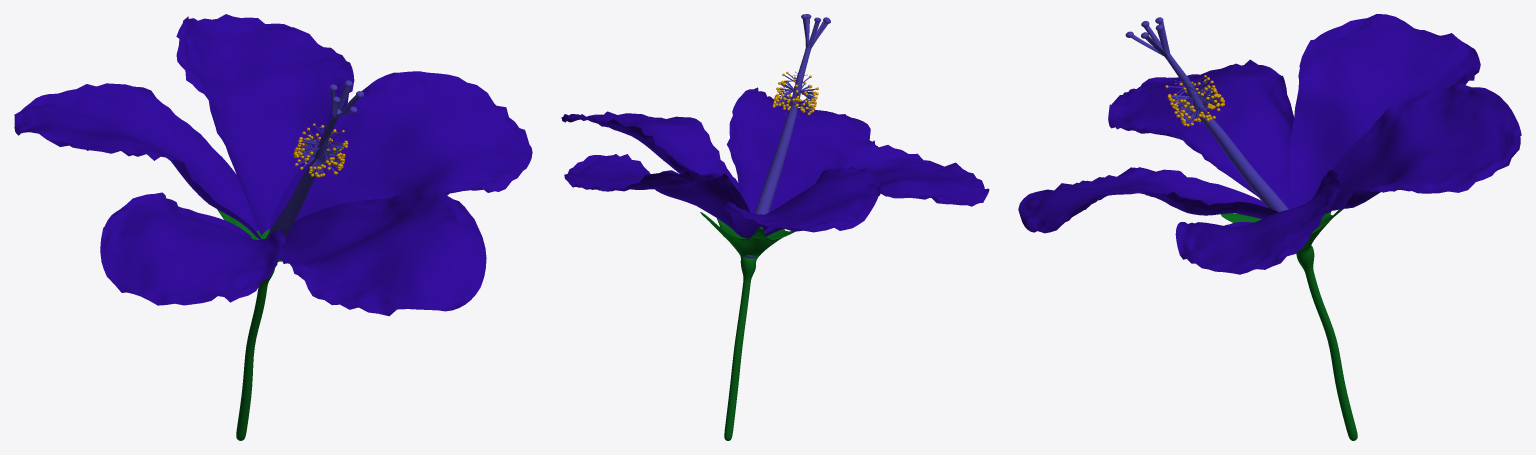
Rendered from hibiscusbloem.fbx.
The picture shows the model from 3 angles, left to right: view 1: azimuth 30°, elevation 25°; view 2: azimuth 150°, elevation 25°; view 3: azimuth 270°, elevation 25°; orthographic projection. The views are drawn at different scales.
Parts seen in each view (by area): view 1: Circle, Cylinder, Cylinder.001; view 2: Circle, Cylinder.001, Cylinder; view 3: Circle, Cylinder, Cylinder.001.
Part boxes in pixels (box(x1,y1,x2,y2)): Circle: box(14, 14, 532, 316); Cylinder: box(266, 80, 363, 238); Cylinder.001: box(217, 209, 281, 440); Circle: box(561, 87, 989, 238); Cylinder.001: box(700, 212, 794, 440); Cylinder: box(745, 14, 830, 258); Circle: box(1018, 14, 1521, 274); Cylinder: box(1125, 17, 1288, 211); Cylinder.001: box(1221, 209, 1357, 440).
Bounding box in the file's own units: 513 × 473 × 514.
